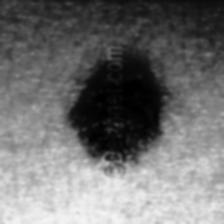Potentially Malignant Skin Tumors: (122, 56, 162, 163), (68, 77, 104, 162)
